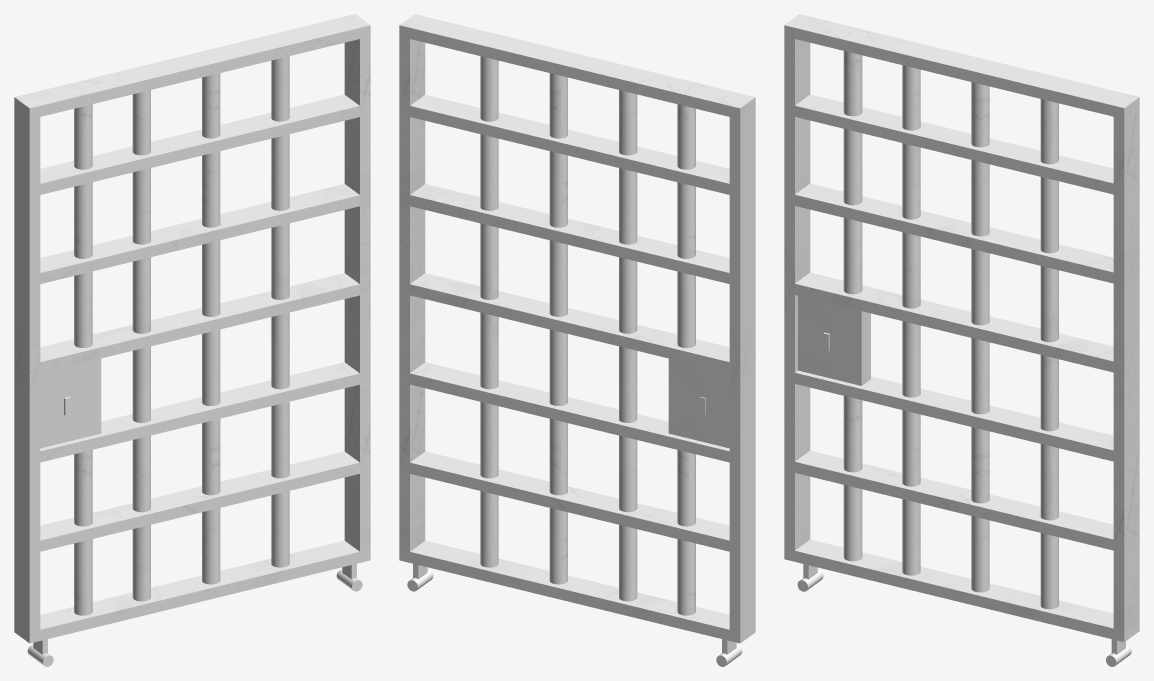
The model's file is EscapeDoor.obj.
The picture shows the model from 3 angles, left to right: view 1: azimuth 30°, elevation 25°; view 2: azimuth 150°, elevation 25°; view 3: azimuth 330°, elevation 25°; orthographic projection.
Visible parts, largest first — view 1: Part14, Part19, Part20, Part1, Part18, Part16, Part6, Part13, Part11, Part7, Part12, Part8 (+2 smaller); view 2: Part14, Part19, Part20, Part1, Part18, Part16, Part6, Part13, Part11, Part7, Part12, Part8 (+2 smaller); view 3: Part19, Part14, Part20, Part16, Part18, Part1, Part6, Part11, Part12, Part7, Part13, Part15 (+2 smaller).
Boxes of the visible parts, bbox=[...] form: Part14: bbox=[14, 108, 40, 632]; Part19: bbox=[344, 36, 370, 551]; Part20: bbox=[14, 14, 370, 119]; Part1: bbox=[202, 73, 220, 584]; Part18: bbox=[271, 56, 289, 567]; Part16: bbox=[132, 90, 150, 601]; Part6: bbox=[14, 540, 370, 643]; Part13: bbox=[40, 94, 359, 194]; Part11: bbox=[40, 273, 359, 373]; Part7: bbox=[40, 451, 359, 551]; Part12: bbox=[40, 184, 359, 283]; Part8: bbox=[40, 362, 359, 462]; Part14: bbox=[729, 108, 755, 632]; Part19: bbox=[399, 36, 425, 551]; Part20: bbox=[399, 14, 755, 119]; Part1: bbox=[549, 73, 567, 584]; Part18: bbox=[480, 56, 498, 567]; Part16: bbox=[619, 90, 637, 601]; Part6: bbox=[399, 540, 755, 643]; Part13: bbox=[410, 94, 729, 194]; Part11: bbox=[410, 273, 729, 373]; Part7: bbox=[410, 451, 729, 551]; Part12: bbox=[410, 184, 729, 283]; Part8: bbox=[410, 362, 729, 462]; Part19: bbox=[1113, 108, 1139, 630]; Part14: bbox=[784, 36, 810, 550]; Part20: bbox=[784, 14, 1139, 119]; Part16: bbox=[902, 65, 920, 575]; Part18: bbox=[1040, 99, 1058, 609]; Part1: bbox=[971, 82, 989, 592]; Part6: bbox=[784, 539, 1139, 642]; Part11: bbox=[795, 272, 1113, 372]; Part12: bbox=[795, 183, 1113, 283]; Part7: bbox=[795, 450, 1113, 550]; Part13: bbox=[795, 94, 1113, 194]; Part15: bbox=[843, 51, 862, 561].
Size of the model in its own units: 8 by 12.62 by 0.625.
Materials: 3 (3 with a texture image).
